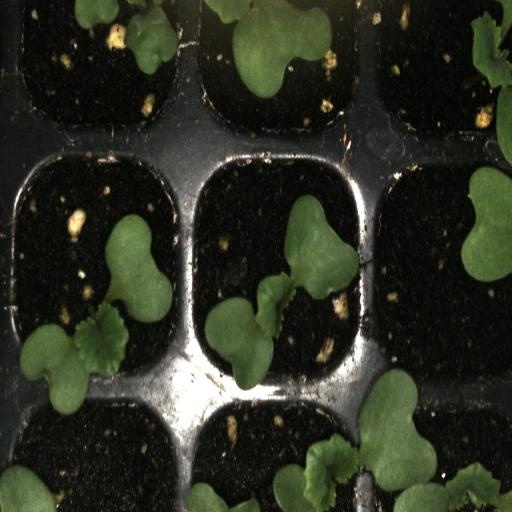seedling: (187, 144, 364, 396), (14, 147, 188, 390)
